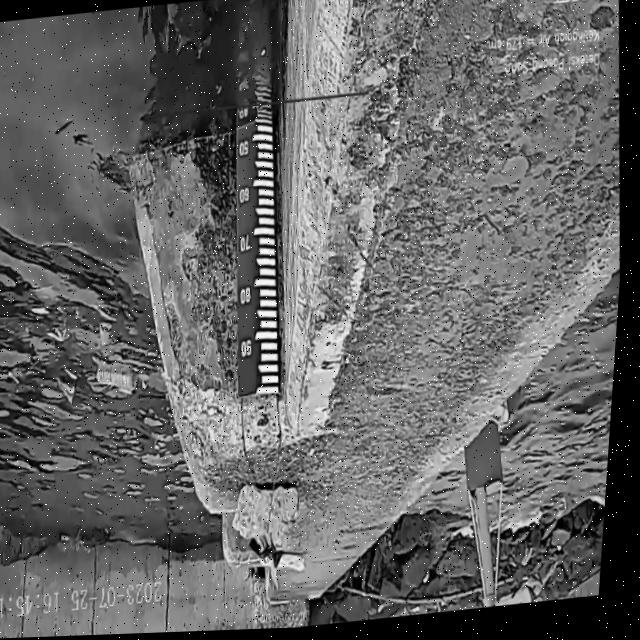water-meter: (206, 96, 307, 412)
